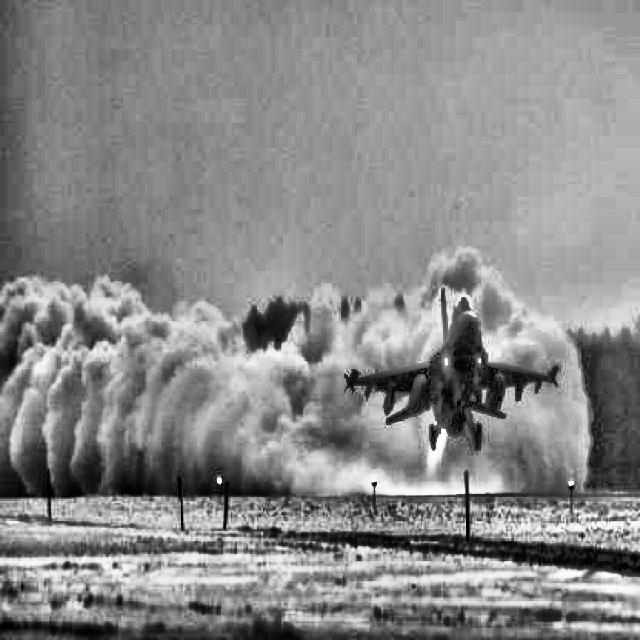F16: (344, 287, 562, 451)
